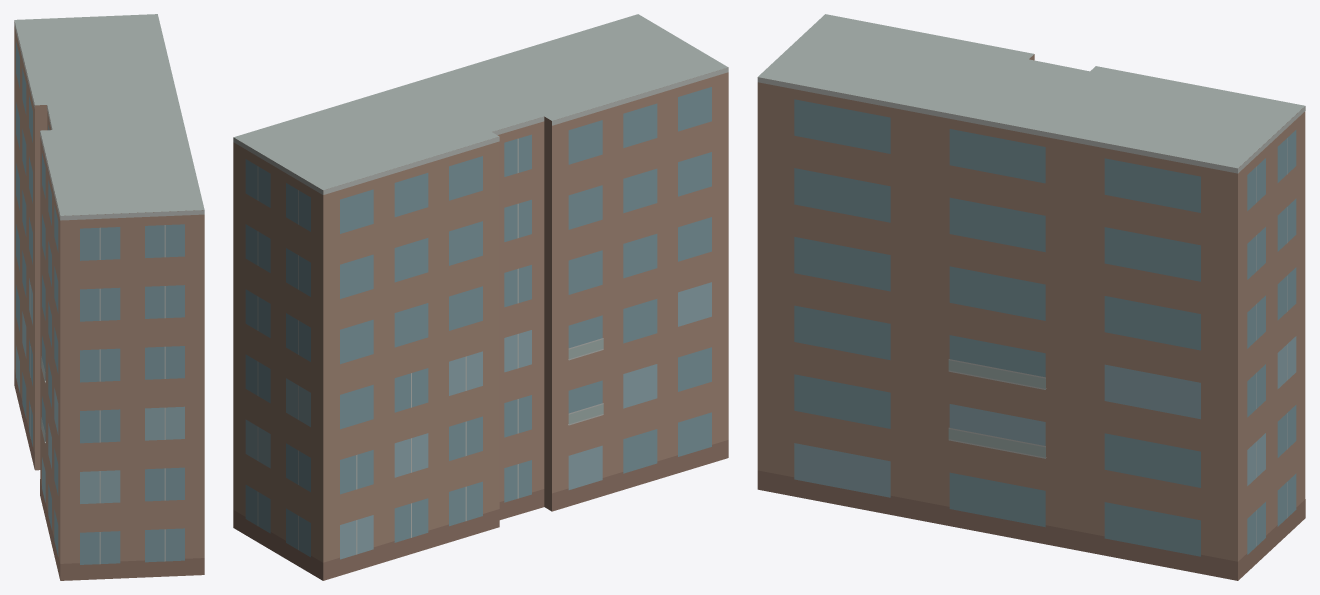
The model's file is survey-upis-32976557.glb.
The picture shows the model from 3 angles, left to right: view 1: azimuth 30°, elevation 25°; view 2: azimuth 150°, elevation 25°; view 3: azimuth 270°, elevation 25°; orthographic projection. The views are drawn at different scales.
Visible parts, largest first — view 1: survey-upis-32976557.tmp; view 2: survey-upis-32976557.tmp; view 3: survey-upis-32976557.tmp.
Part boxes in pixels (x1=…): survey-upis-32976557.tmp: x1=14, y1=14, x2=204, y2=580; survey-upis-32976557.tmp: x1=233, y1=14, x2=728, y2=580; survey-upis-32976557.tmp: x1=757, y1=14, x2=1305, y2=580.
Size of the model in its own units: 15.66 by 19.5 by 23.48.
